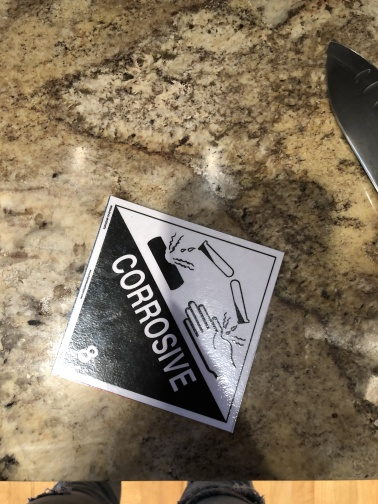Corrosive: (54, 196, 264, 434)
